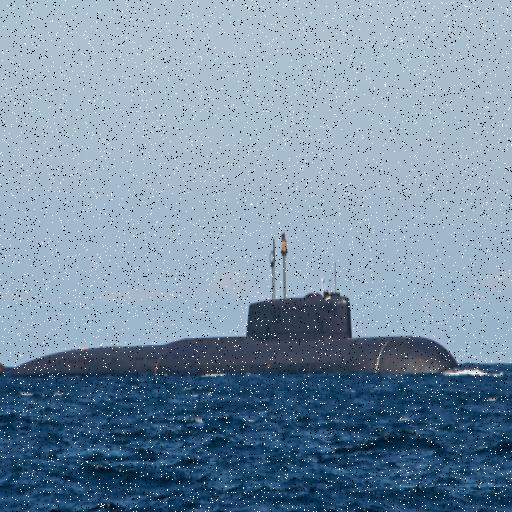submarine: (1, 293, 468, 370)
